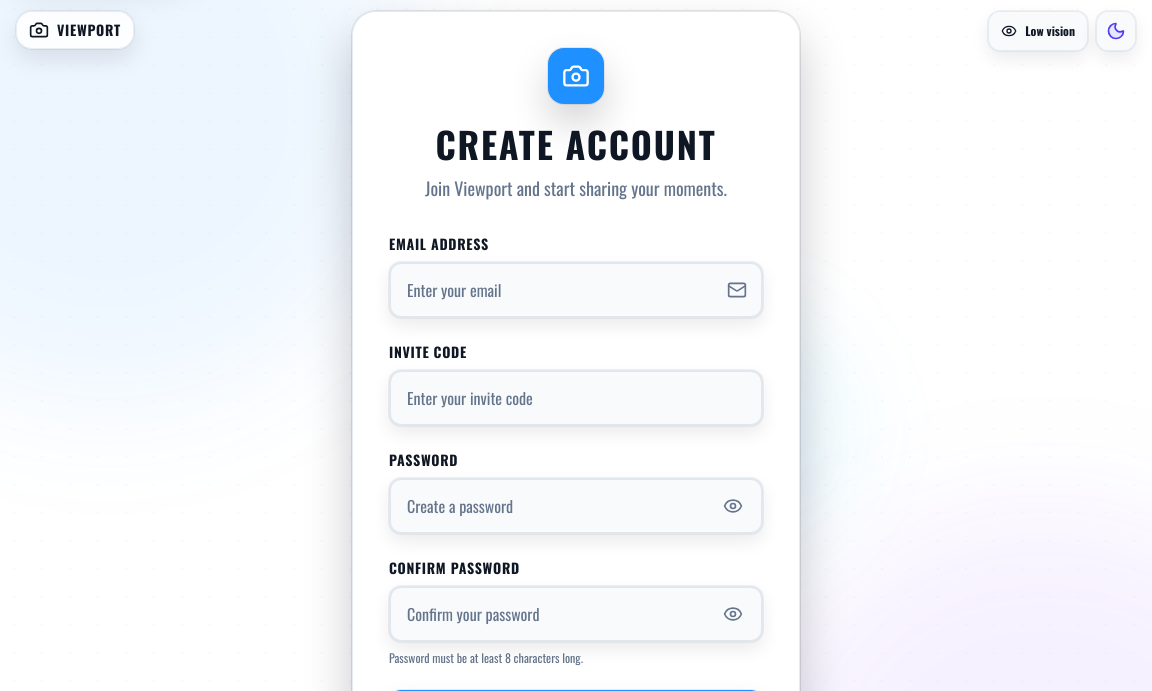
RegisterPage › should validate password match
The image size is (1152, 691).
Step 1. Type "test@example.com" into the field labelled "Email Address" → (576, 290), box [389,262,763,318]
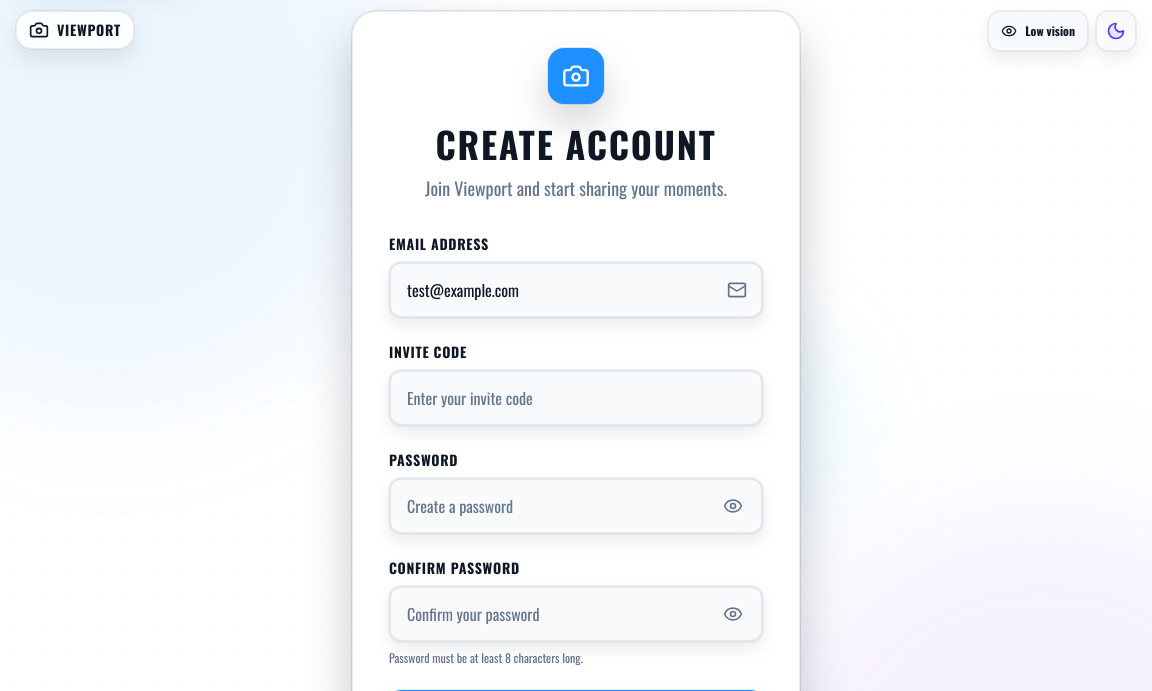
Step 2. Type "password123" into the password field labelled "Password" → (576, 506), box [389,478,763,534]
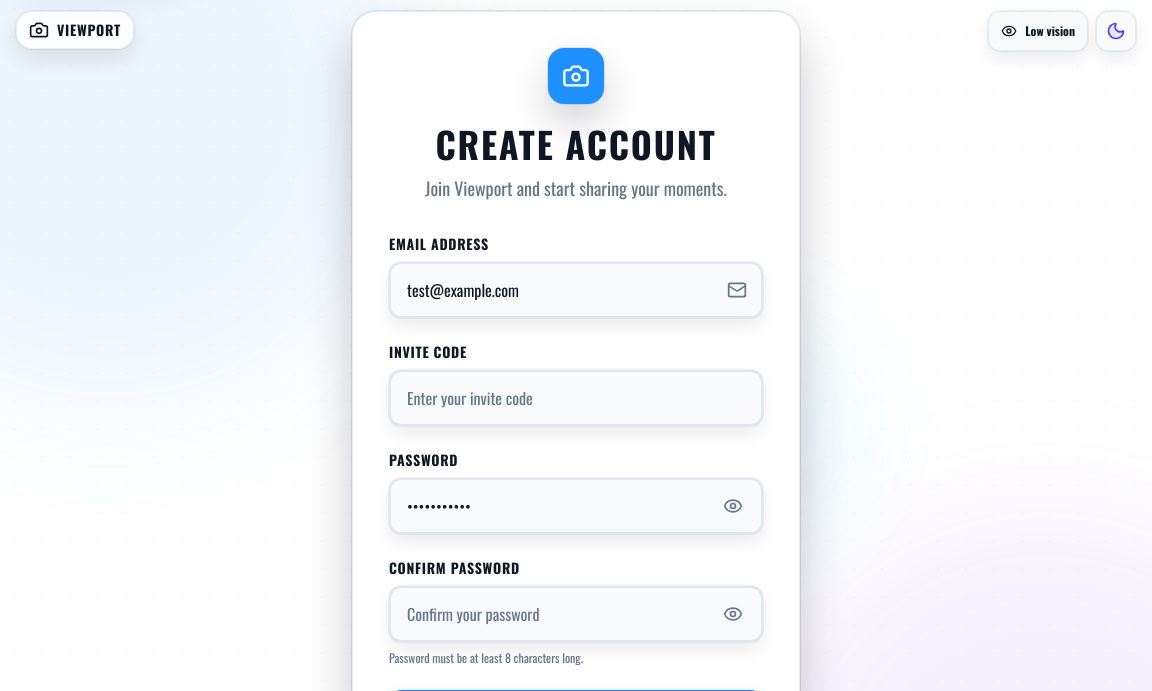
Step 3. Type "differentpassword" into the password field labelled "Confirm Password" → (576, 614), box [389,586,763,642]
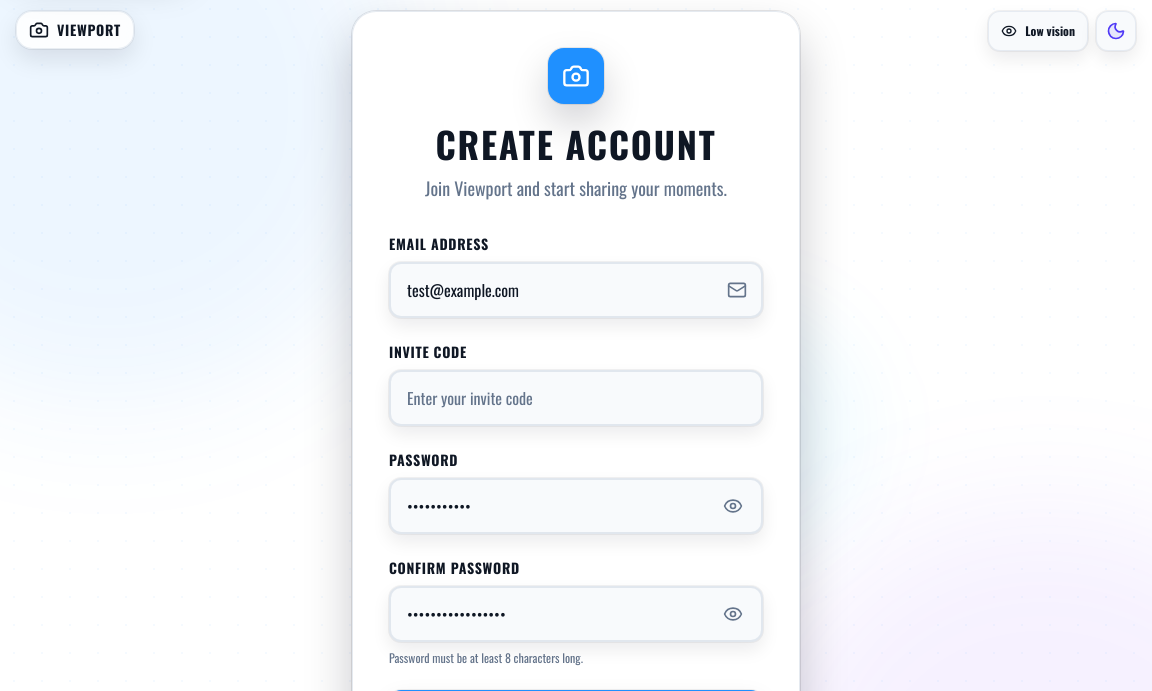
Step 4. Type "INVITE123" into the field labelled "Invite Code" → (576, 398), box [389,370,763,426]
(page scrolled)
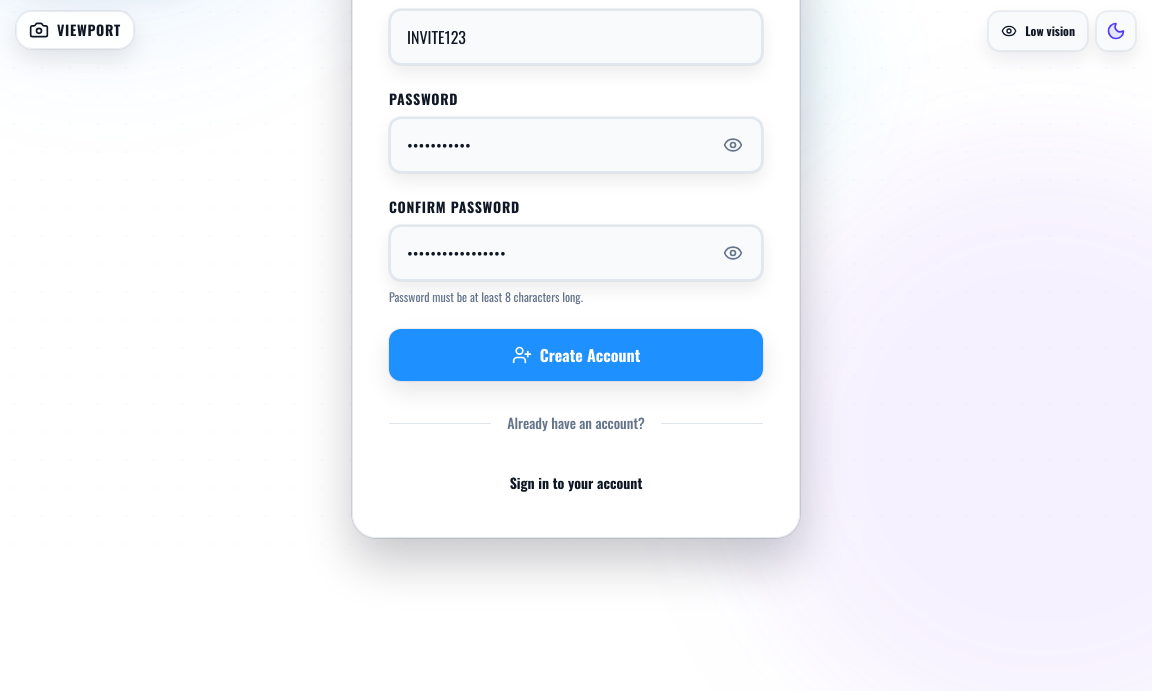
Step 5. Click the button "Create Account" → (576, 355), box [389,329,763,381]
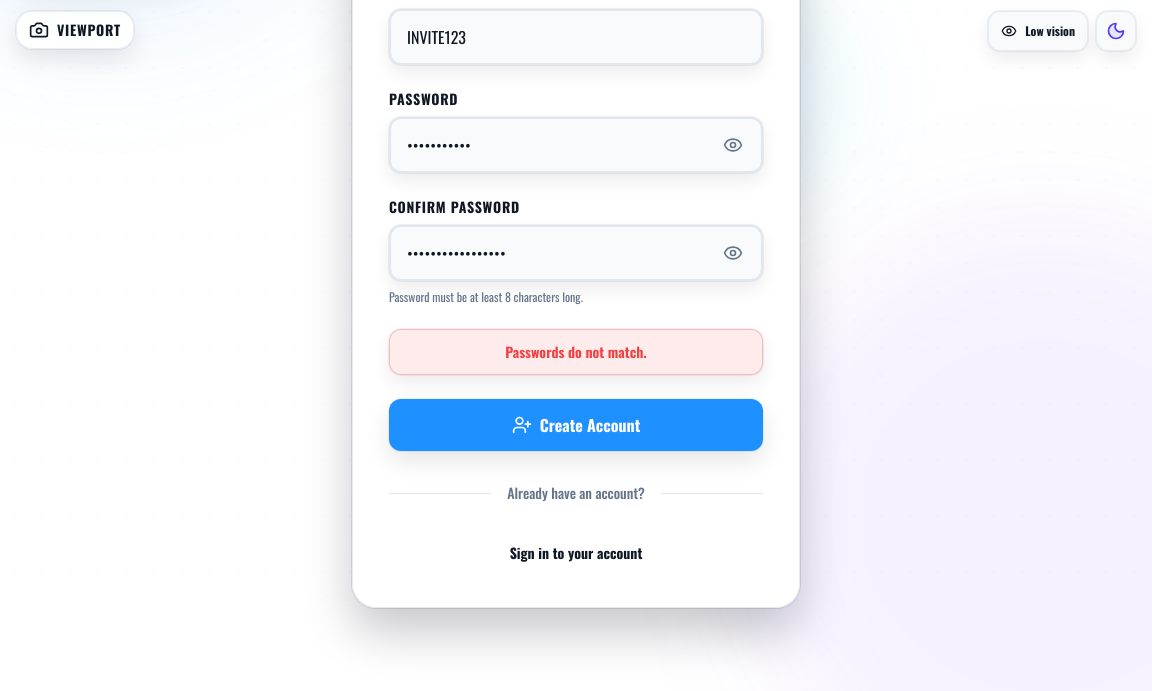
Result: the text "Passwords do not match." is shown at [389,329,763,375]
